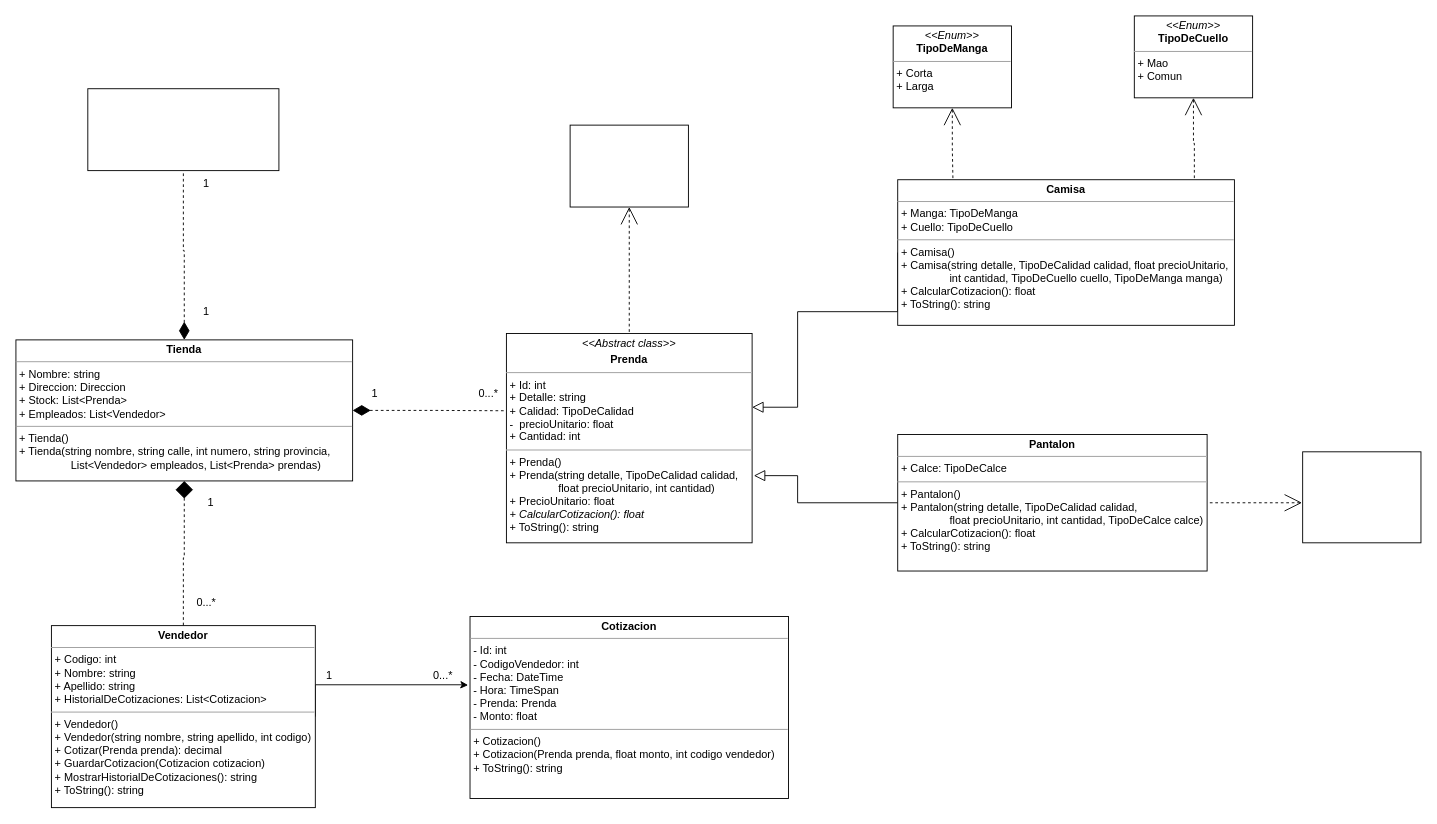
This 1437x824 diagram has some shape labels left out. Each missing label, with the centre of its shape:
<<Enum>> TipoDeCalce + Comun + Chupin: [1361,497]
<<Enum>> TipoDeCalidad + Stardard + Premium: [628,165]
Direccion + Calle: string + Numero: int + Provincia: string: [183,129]
